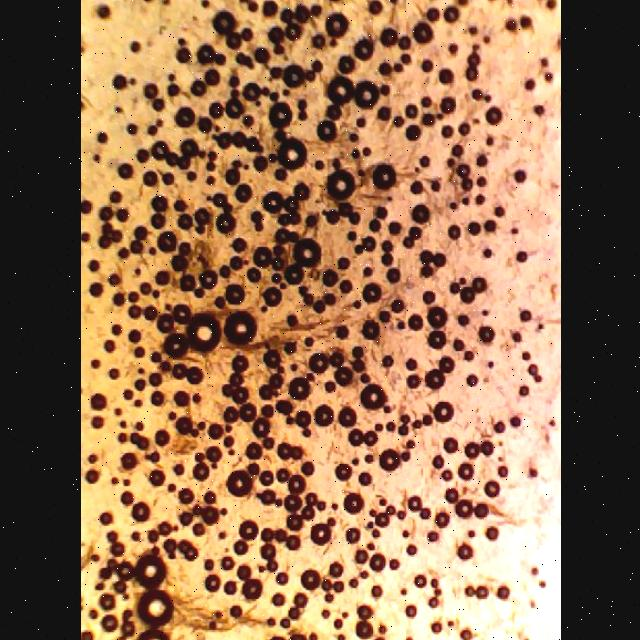microbeads: (136, 588, 174, 630), (132, 549, 170, 591), (220, 309, 258, 349), (187, 310, 219, 354), (274, 137, 308, 173), (323, 170, 355, 202), (351, 80, 383, 110), (358, 383, 388, 413), (294, 236, 320, 270), (222, 469, 252, 498), (324, 78, 352, 102), (162, 334, 186, 358), (134, 630, 168, 640)
